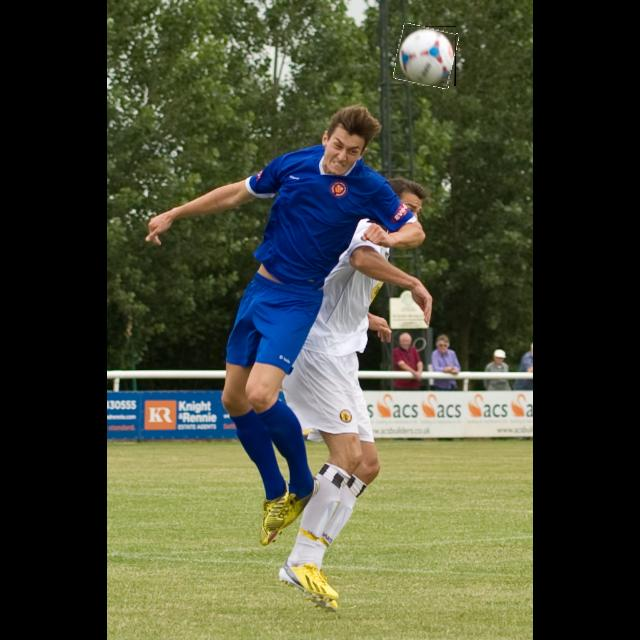Football: (396, 26, 456, 86)
